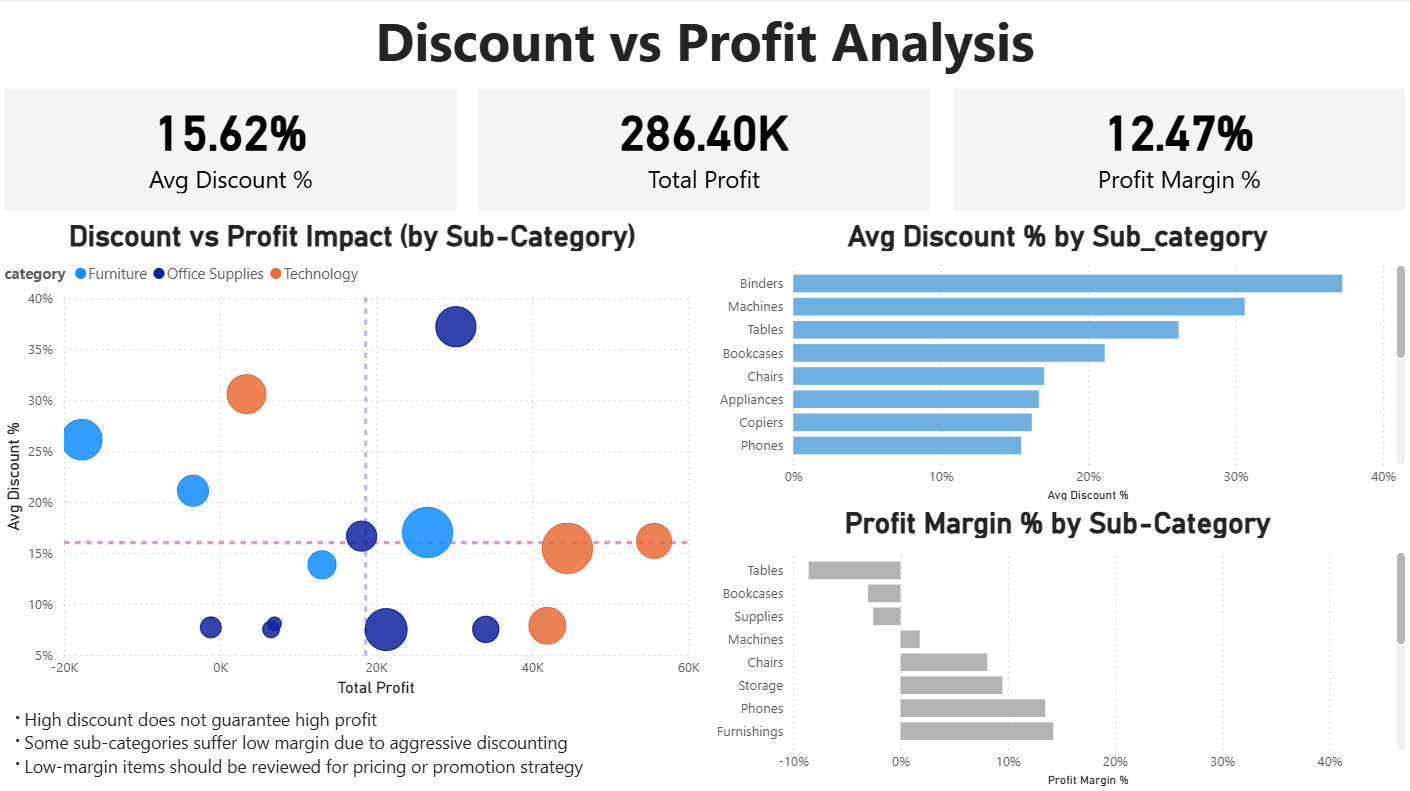

This screenshot's page, from the dashboard's own definition file:
{"tool":"powerbi","page":{"name":"Discount vs Profit Analysis","canvas":[1280,720],"ordinal":2},"visuals":[{"type":"textbox","box":[0,0,1280,77.5],"z":0},{"type":"cardVisual","title":"Total Sale","fields":{"Data":["_measures.Avg Discount %"]},"box":[0,77.5,420,121.6],"z":1000},{"type":"cardVisual","title":"Total Sale","fields":{"Data":["_measures.Profit Margin %"]},"box":[860.4,77.5,419.6,121.6],"z":2000},{"type":"cardVisual","title":"Total Sale","fields":{"Data":["_measures.Total Profit"]},"box":[430.2,77.5,419.6,121.6],"z":3000},{"type":"scatterChart","title":"Discount vs Profit Impact (by Sub-Category)","fields":{"X":["_measures.Total Profit"],"Y":["_measures.Avg Discount %"],"Size":["_measures.Total Sales"],"Series":["fact_orders.category"],"Category":["fact_orders.sub_category"]},"box":[0,199.1,640,439.3],"z":4000},{"type":"barChart","title":"Avg Discount % by Sub_category","fields":{"Category":["fact_orders.sub_category"],"Y":["_measures.Avg Discount %"]},"box":[640,199.1,640,261.5],"z":5000},{"type":"clusteredBarChart","title":"Profit Margin % by Sub-Category","fields":{"Category":["fact_orders.sub_category"],"Y":["_measures.Profit Margin %"]},"box":[640,460,640,260],"z":6000},{"type":"textbox","box":[0,638.5,640,82.1],"z":7000}]}

Visuals, with their boxes in screenshot pixels (x1, y1, x2, y2), scaled from the page's 1280x720 canvas onto the 1410x791 screenshot:
textbox: {"left": 0, "top": 0, "right": 1409, "bottom": 85}
"Total Sale" cardVisual: {"left": 0, "top": 85, "right": 463, "bottom": 219}
"Total Sale" cardVisual: {"left": 948, "top": 85, "right": 1409, "bottom": 219}
"Total Sale" cardVisual: {"left": 474, "top": 85, "right": 936, "bottom": 219}
"Discount vs Profit Impact (by Sub-Category)" scatterChart: {"left": 0, "top": 219, "right": 705, "bottom": 701}
"Avg Discount % by Sub_category" barChart: {"left": 705, "top": 219, "right": 1409, "bottom": 506}
"Profit Margin % by Sub-Category" clusteredBarChart: {"left": 705, "top": 505, "right": 1409, "bottom": 790}
textbox: {"left": 0, "top": 701, "right": 705, "bottom": 790}
